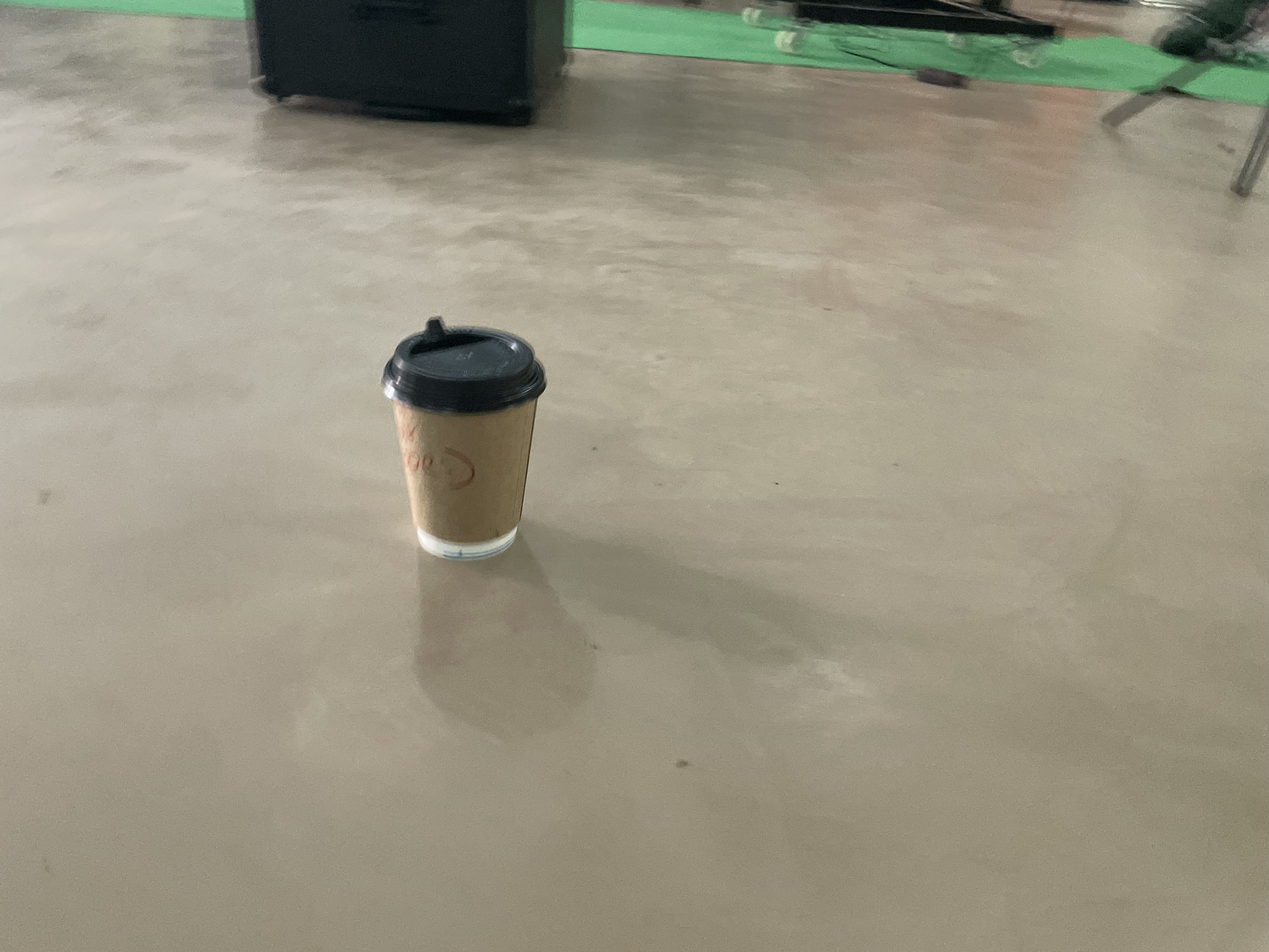cup: (382, 317, 546, 561)
